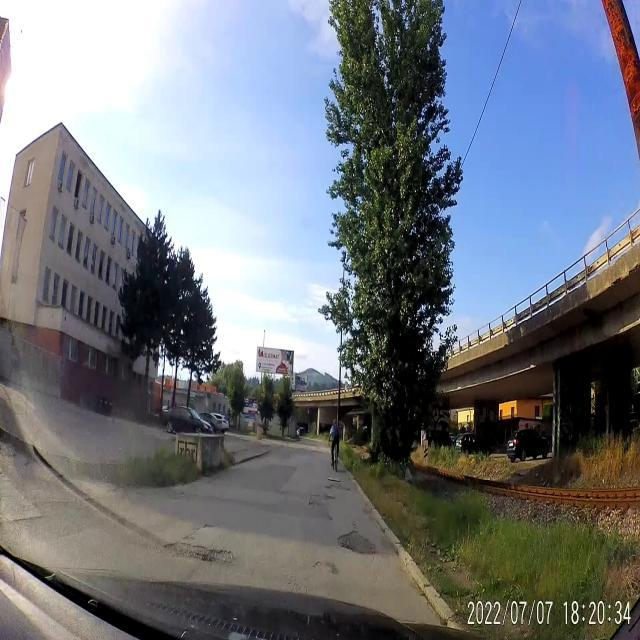Pothole: (162, 534, 235, 572), (336, 524, 379, 564)
